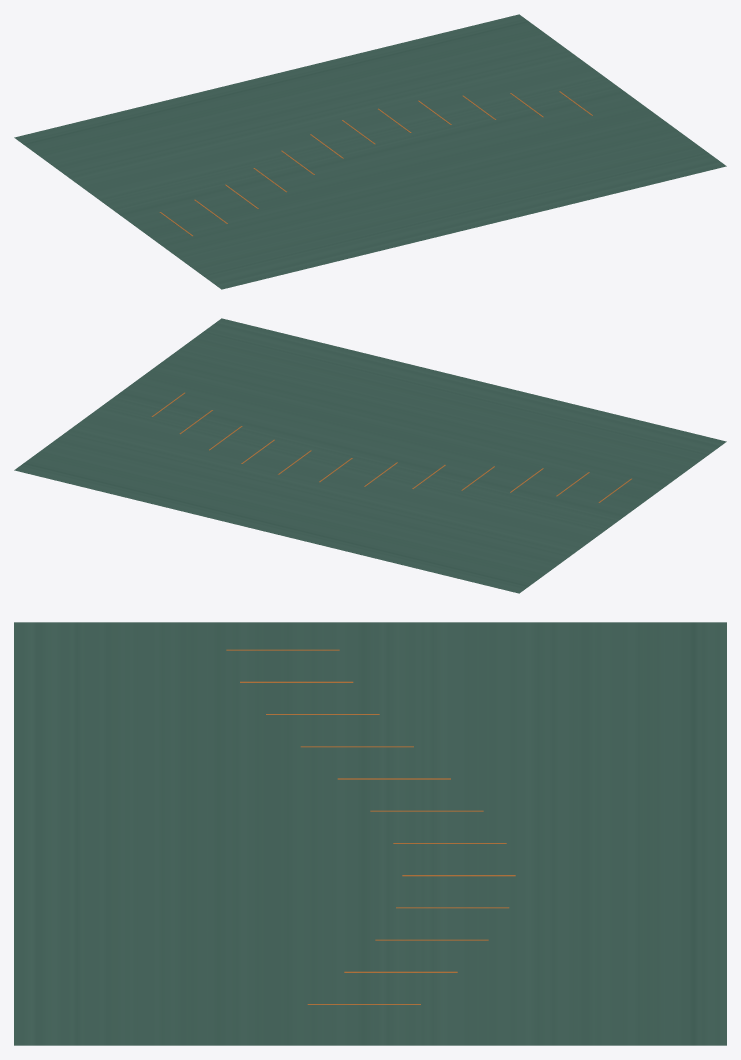
File: 271_L119_L22_LayerReference.obj
3 views of the same model, one above another, from view 1: azimuth 30°, elevation 25°; view 2: azimuth 150°, elevation 25°; view 3: azimuth 270°, elevation 25° (orthographic). The views are drawn at different scales.
Parts seen in each view (by area): view 1: 271_L119_L22_LayerReference; view 2: 271_L119_L22_LayerReference; view 3: 271_L119_L22_LayerReference.
Boxes of the visible parts, <box> form: 271_L119_L22_LayerReference: <box>14,14,726,289</box>; 271_L119_L22_LayerReference: <box>14,318,726,593</box>; 271_L119_L22_LayerReference: <box>14,622,726,1045</box>.
Size of the model in its own units: 0.486 by 8.8e-05 by 0.346.
Materials: 2 (2 with a texture image).
